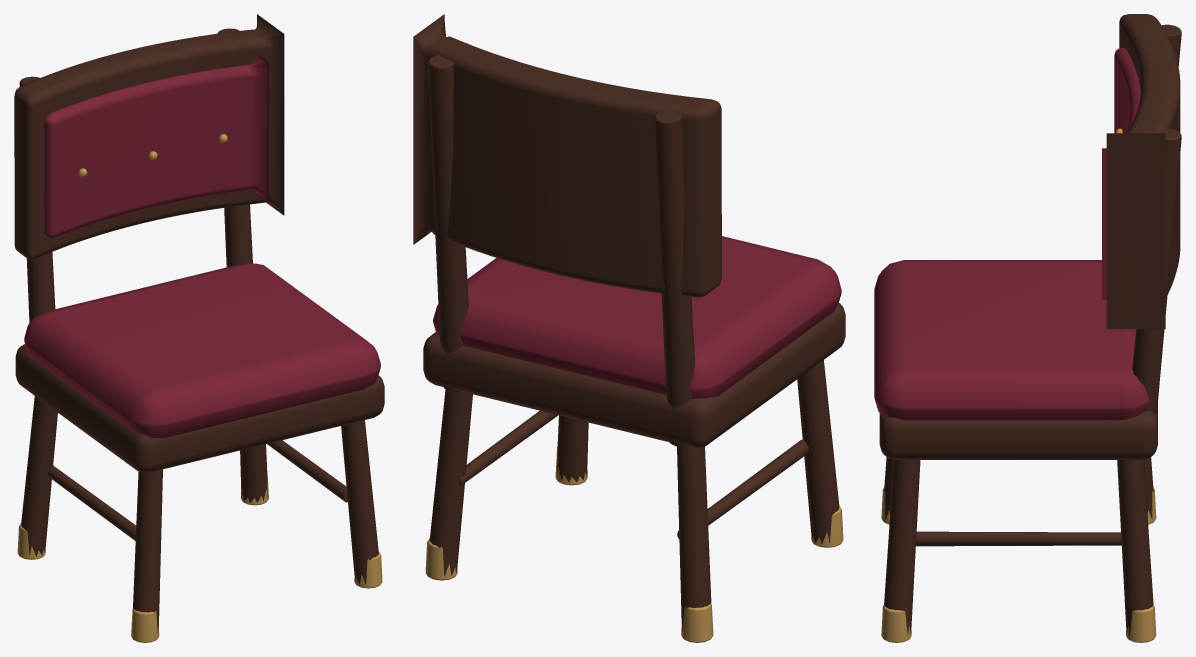
The model's file is concert-chair.glb.
3 views of the same model, side by side, from view 1: azimuth 30°, elevation 25°; view 2: azimuth 150°, elevation 25°; view 3: azimuth 270°, elevation 25° (orthographic). The views are drawn at different scales.
Visible parts, largest first — view 1: Rounded velvet seat, Velvet curved back, Walnut curved back, Chair seat frame, Tapered walnut leg.002, Tapered walnut leg.001, Tapered walnut leg, Back upright, Back upright.001, Tapered walnut leg.003, Side stretcher, Side stretcher.001 (+2 smaller); view 2: Walnut curved back, Rounded velvet seat, Chair seat frame, Back upright, Back upright.001, Tapered walnut leg.003, Tapered walnut leg, Tapered walnut leg.001, Side stretcher, Tapered walnut leg.002, Side stretcher.001, Brass foot.001 (+1 smaller); view 3: Rounded velvet seat, Walnut curved back, Chair seat frame, Tapered walnut leg.002, Tapered walnut leg.003, Back upright.001, Side stretcher.001, Velvet curved back, Brass foot.002, Brass foot.003.
Part boxes in pixels (left/top/right/bottom): Rounded velvet seat: left=24, top=263, right=380, bottom=437; Velvet curved back: left=44, top=55, right=268, bottom=238; Walnut curved back: left=14, top=14, right=284, bottom=259; Chair seat frame: left=15, top=344, right=384, bottom=472; Tapered walnut leg.002: left=341, top=420, right=378, bottom=584; Tapered walnut leg.001: left=21, top=396, right=57, bottom=556; Tapered walnut leg: left=133, top=469, right=162, bottom=633; Back upright: left=19, top=76, right=55, bottom=322; Back upright.001: left=217, top=28, right=252, bottom=267; Tapered walnut leg.003: left=240, top=444, right=267, bottom=502; Side stretcher: left=48, top=465, right=136, bottom=540; Side stretcher.001: left=267, top=440, right=347, bottom=502; Walnut curved back: left=413, top=14, right=721, bottom=297; Rounded velvet seat: left=433, top=236, right=841, bottom=398; Chair seat frame: left=423, top=303, right=845, bottom=448; Back upright: left=654, top=112, right=695, bottom=447; Back upright.001: left=427, top=55, right=468, bottom=391; Tapered walnut leg.003: left=429, top=389, right=472, bottom=576; Tapered walnut leg: left=797, top=360, right=839, bottom=543; Tapered walnut leg.001: left=677, top=446, right=711, bottom=632; Side stretcher: left=677, top=439, right=808, bottom=538; Tapered walnut leg.002: left=557, top=415, right=588, bottom=482; Side stretcher.001: left=459, top=410, right=558, bottom=485; Brass foot.001: left=681, top=603, right=713, bottom=642; Rounded velvet seat: left=874, top=260, right=1149, bottom=420; Walnut curved back: left=1106, top=14, right=1180, bottom=329; Chair seat frame: left=879, top=403, right=1157, bottom=459; Tapered walnut leg.002: left=884, top=460, right=920, bottom=635; Tapered walnut leg.003: left=1117, top=460, right=1153, bottom=635; Back upright.001: left=1132, top=128, right=1181, bottom=413; Side stretcher.001: left=916, top=531, right=1121, bottom=546; Velvet curved back: left=1102, top=47, right=1140, bottom=299; Brass foot.002: left=881, top=605, right=911, bottom=642; Brass foot.003: left=1126, top=605, right=1156, bottom=642.
Size of the model in its own units: 0.57 by 1.03 by 0.5636.
